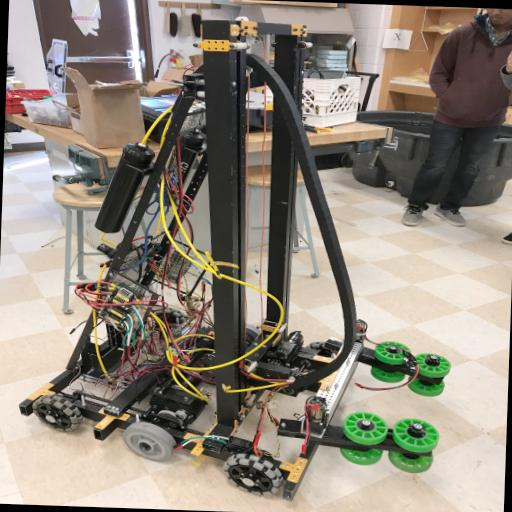robot: (18, 10, 464, 504)
